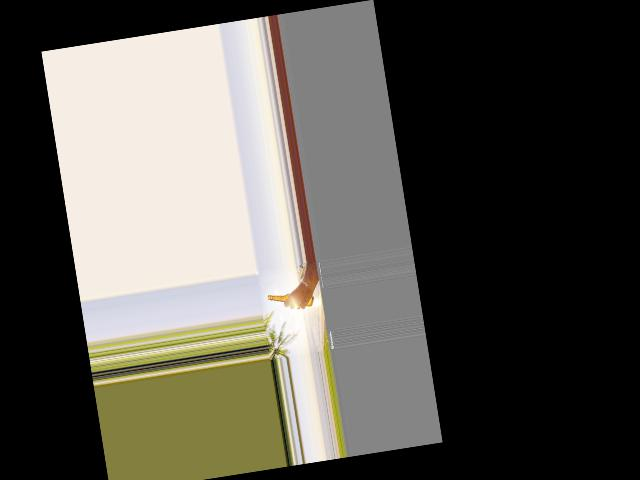beer: (267, 287, 315, 312)
